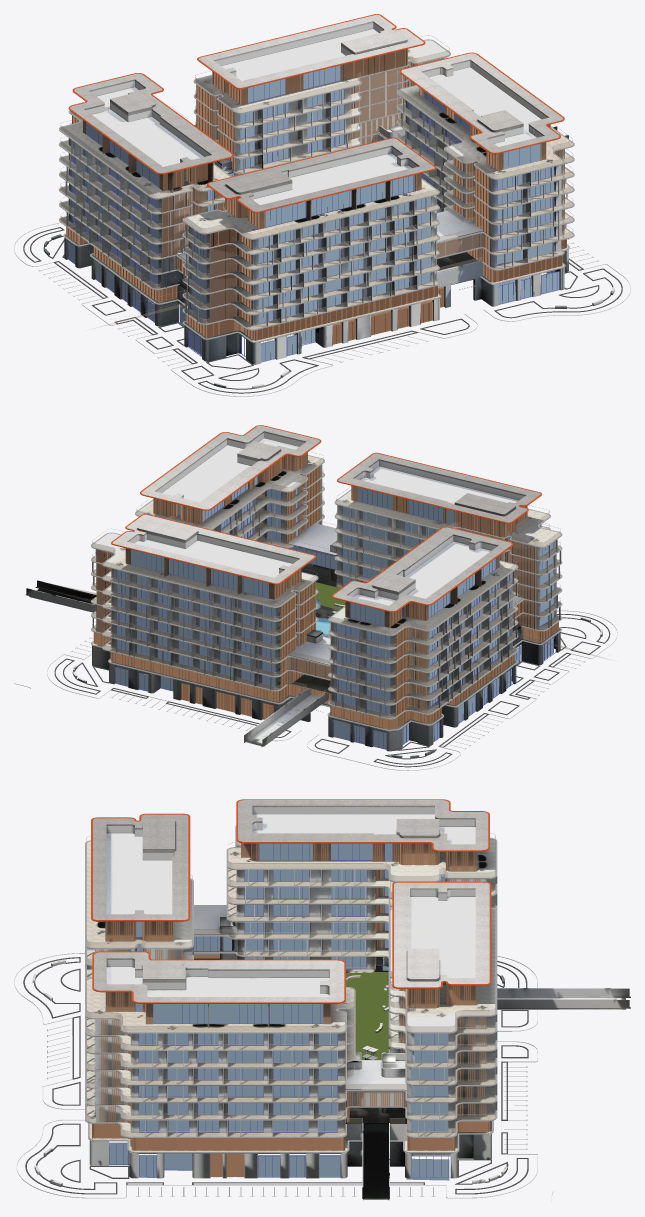
Rendered from MAG_11_build_B.glb.
3 renders of one model, top to bottom at view 1: azimuth 30°, elevation 25°; view 2: azimuth 150°, elevation 25°; view 3: azimuth 270°, elevation 25°, orthographic. The views are drawn at different scales.
Parts seen in each view (by area): view 1: B_Build; view 2: B_Build; view 3: B_Build.
Part boxes in pixels (x1,y1,x2,y2): B_Build: [14, 14, 630, 396]; B_Build: [14, 425, 617, 770]; B_Build: [14, 799, 630, 1201].
Bounding box in the file's own units: 165 × 43.69 × 135.
Materials: 17 (3 with a texture image).
